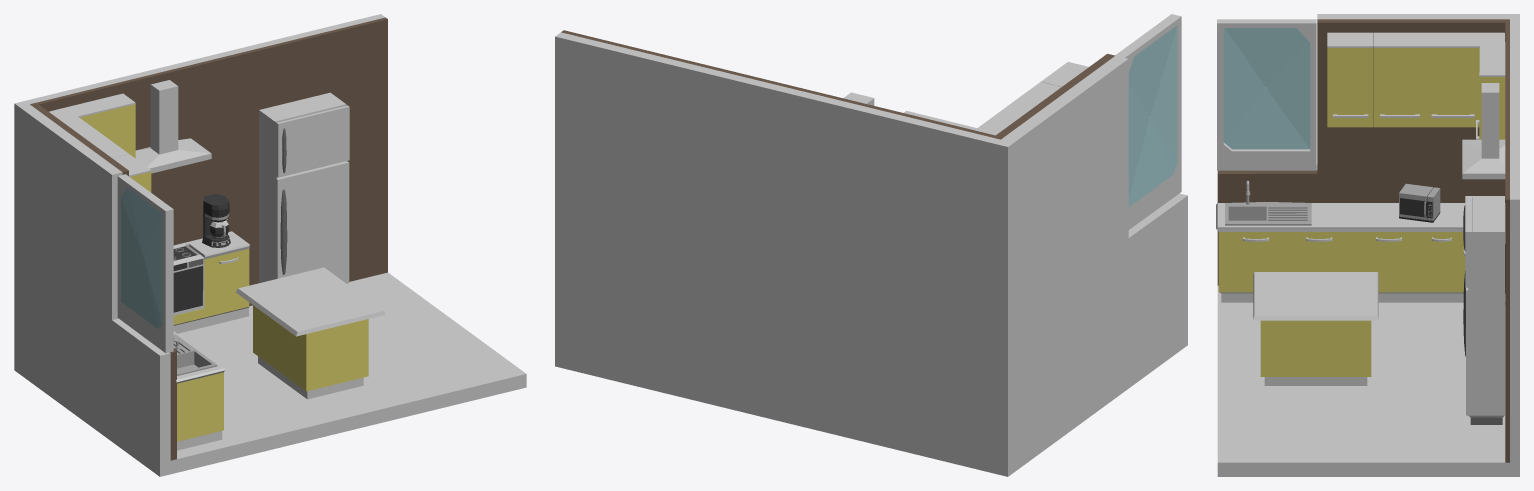
Rendered from Kitchen.fbx.
The picture shows the model from 3 angles, left to right: view 1: azimuth 30°, elevation 25°; view 2: azimuth 150°, elevation 25°; view 3: azimuth 270°, elevation 25°; orthographic projection. The views are drawn at different scales.
Visible parts, largest first — view 1: Room, Freezer, 1, Kitchen 1, Room.001, Kitchen 2, 2, Cook, Make Coffee; view 2: Room, Room.001, Kitchen 2; view 3: Room, Kitchen 1, Kitchen 2, Room.001, 1, Freezer, 2, Microwave.
Part boxes in pixels (bbox=[...]): Room: bbox=[14, 14, 526, 476]; Freezer: bbox=[259, 92, 349, 283]; 1: bbox=[236, 267, 385, 399]; Kitchen 1: bbox=[173, 231, 249, 450]; Room.001: bbox=[117, 174, 173, 352]; Kitchen 2: bbox=[49, 93, 151, 192]; 2: bbox=[135, 80, 211, 173]; Cook: bbox=[144, 244, 204, 315]; Make Coffee: bbox=[202, 193, 230, 247]; Room: bbox=[555, 30, 1187, 476]; Room.001: bbox=[1115, 14, 1181, 229]; Kitchen 2: bbox=[904, 62, 1088, 135]; Room: bbox=[1217, 14, 1519, 476]; Kitchen 1: bbox=[1216, 180, 1505, 304]; Kitchen 2: bbox=[1327, 32, 1505, 139]; Room.001: bbox=[1217, 19, 1316, 170]; 1: bbox=[1253, 272, 1378, 385]; Freezer: bbox=[1463, 196, 1504, 424]; 2: bbox=[1462, 83, 1505, 179]; Microwave: bbox=[1399, 183, 1440, 222].
Size of the model in its own units: 306 by 213 by 212.
